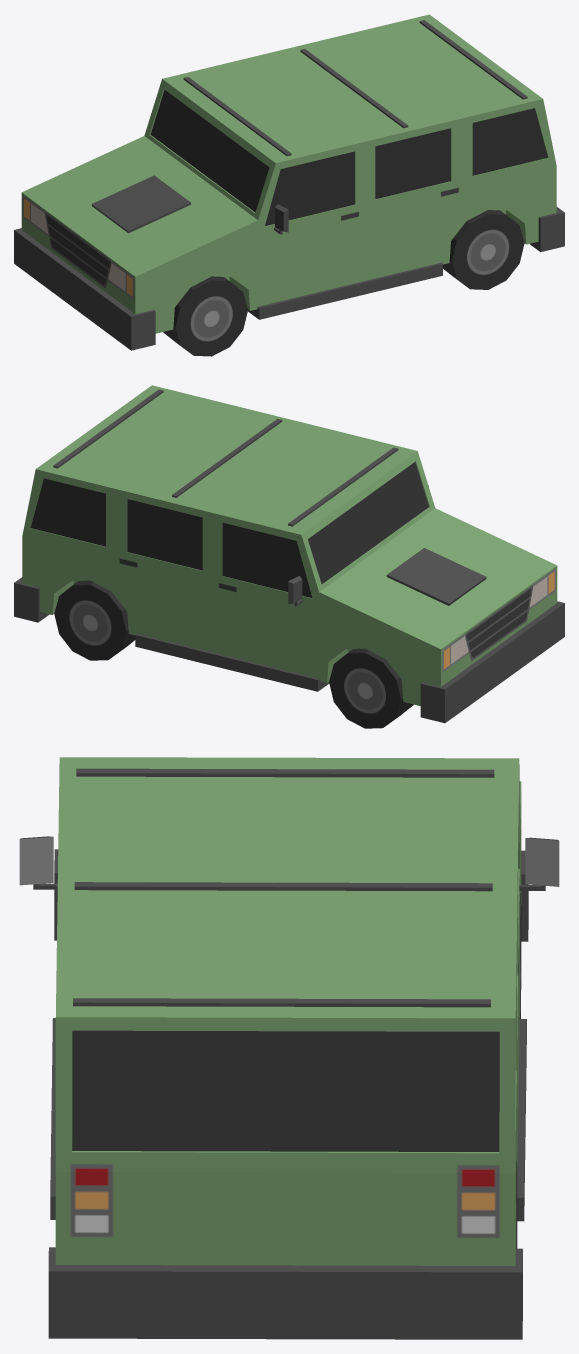
The model's file is suv_3.glb.
3 renders of one model, top to bottom at view 1: azimuth 30°, elevation 25°; view 2: azimuth 150°, elevation 25°; view 3: azimuth 270°, elevation 25°, orthographic. The views are drawn at different scales.
Visible parts, largest first — view 1: Vehicle_SUV_color02.001; view 2: Vehicle_SUV_color02.001; view 3: Vehicle_SUV_color02.001.
Part boxes in pixels (x1=…): Vehicle_SUV_color02.001: x1=14, y1=14, x2=564, y2=356; Vehicle_SUV_color02.001: x1=14, y1=385, x2=564, y2=728; Vehicle_SUV_color02.001: x1=19, y1=757, x2=559, y2=1339.
Size of the model in its own units: 5.75 by 2.27 by 3.1.
Materials: 1 (1 with a texture image).
